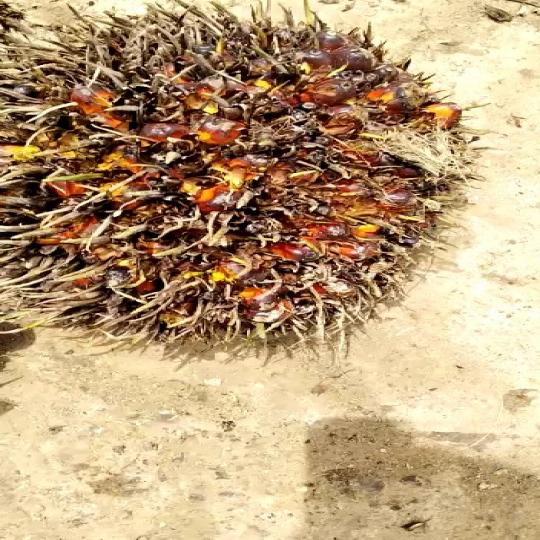terlalu masak: (0, 0, 497, 345)
